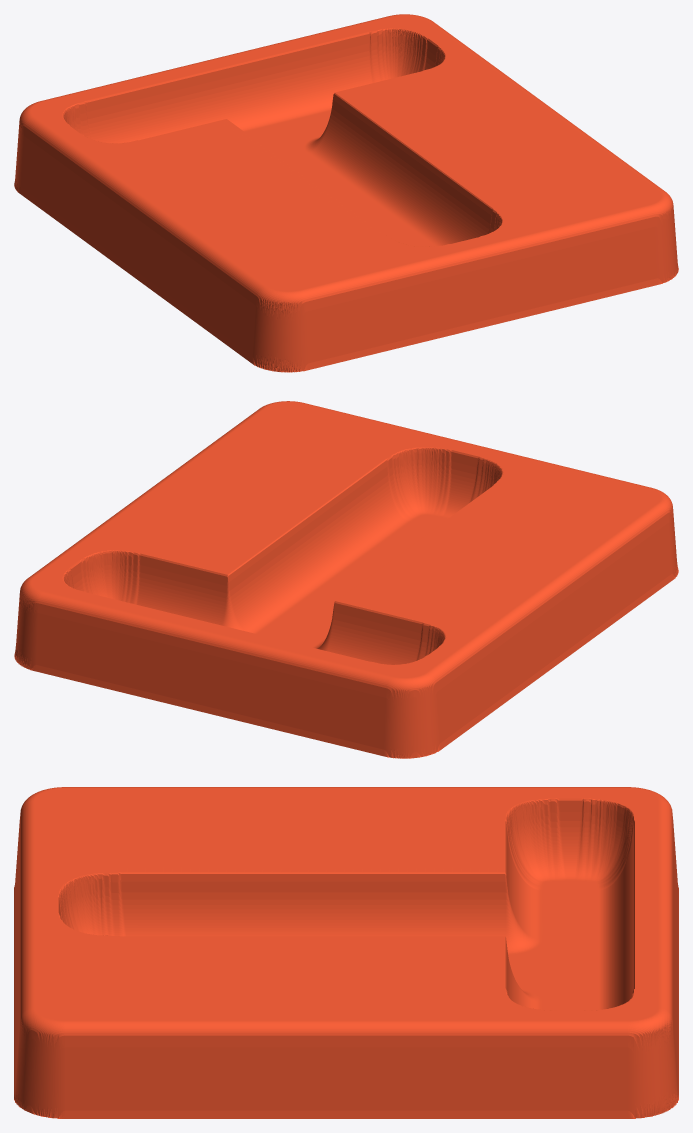
File: mold.glb
3 renders of one model, top to bottom at view 1: azimuth 30°, elevation 25°; view 2: azimuth 150°, elevation 25°; view 3: azimuth 270°, elevation 25°, orthographic. The views are drawn at different scales.
Parts seen in each view (by area): view 1: geometry_0; view 2: geometry_0; view 3: geometry_0.
Boxes of the visible parts, x1,y1,x2,y2 form: geometry_0: [14, 14, 678, 372]; geometry_0: [14, 401, 678, 758]; geometry_0: [14, 787, 678, 1118].
Bounding box in the file's own units: 0.1046 × 0.0175 × 0.1178.
